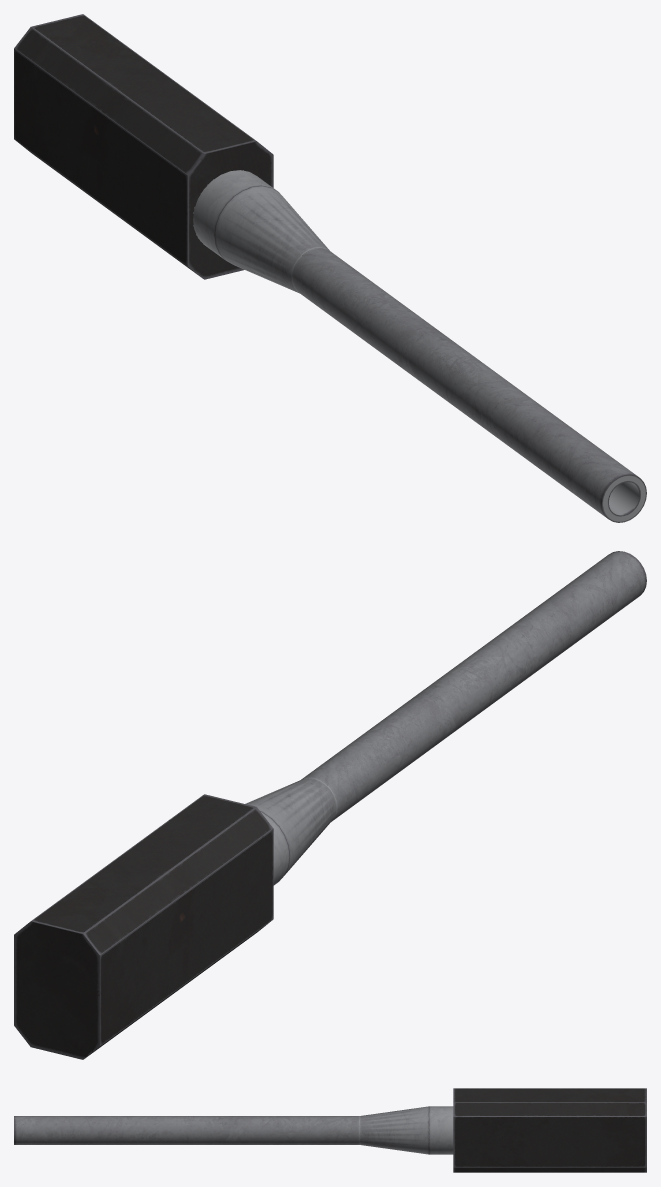
File: gun_l_1.fbx
3 views of the same model, one above another, from view 1: azimuth 30°, elevation 25°; view 2: azimuth 150°, elevation 25°; view 3: azimuth 270°, elevation 25° (orthographic). The views are drawn at different scales.
Parts seen in each view (by area): view 1: gun_l_1; view 2: gun_l_1; view 3: gun_l_1.
Part boxes in pixels (x1,y1,x2,y2): gun_l_1: (14, 14, 646, 522); gun_l_1: (14, 551, 646, 1059); gun_l_1: (14, 1088, 646, 1172).
Size of the model in its own units: 1.44 by 2.02 by 16.47.
